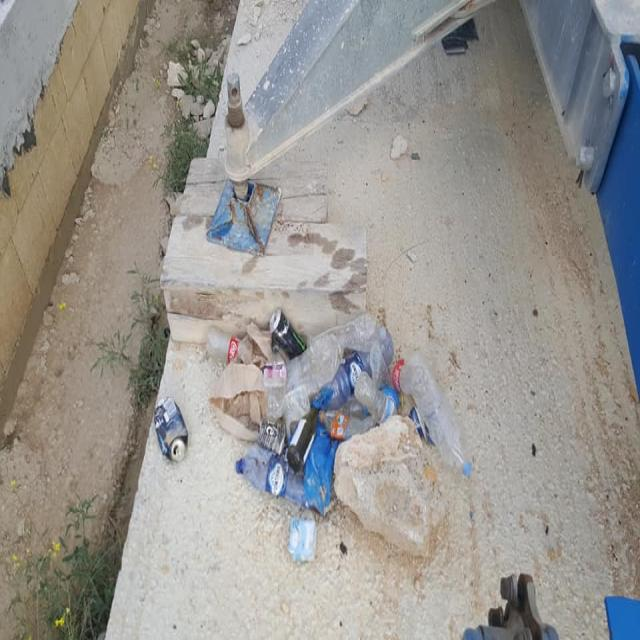Bottle: (403, 350, 474, 480), (315, 328, 396, 406), (235, 452, 308, 507), (287, 403, 320, 475), (319, 401, 374, 442), (355, 374, 400, 424), (387, 360, 429, 400), (207, 324, 242, 367)
Can: (152, 397, 190, 463), (266, 309, 303, 353)
Cup: (256, 417, 285, 453)
Other litter: (440, 16, 480, 59)
Other plastic: (207, 321, 375, 442), (300, 433, 337, 518), (376, 385, 427, 439), (290, 518, 318, 563)
